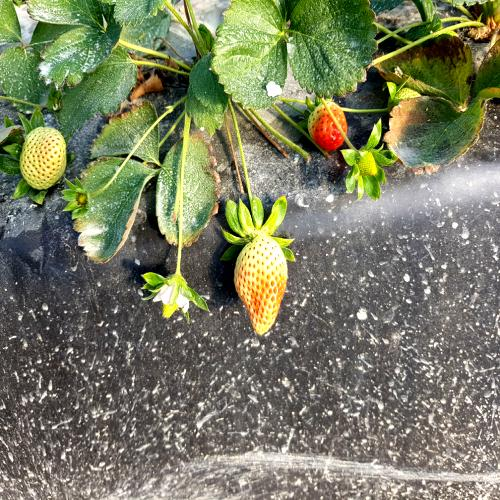partially-ripe: (232, 219, 290, 351)
